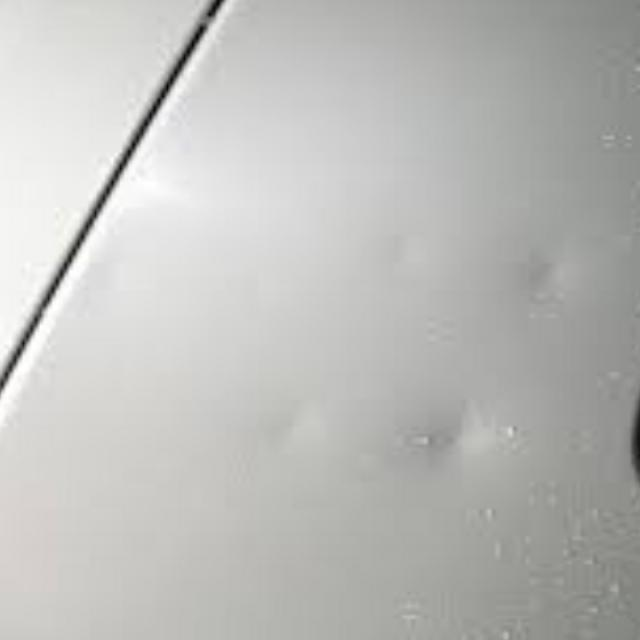dents: (392, 388, 507, 489), (470, 241, 603, 323), (247, 388, 333, 469), (61, 252, 140, 334), (355, 220, 436, 290)
